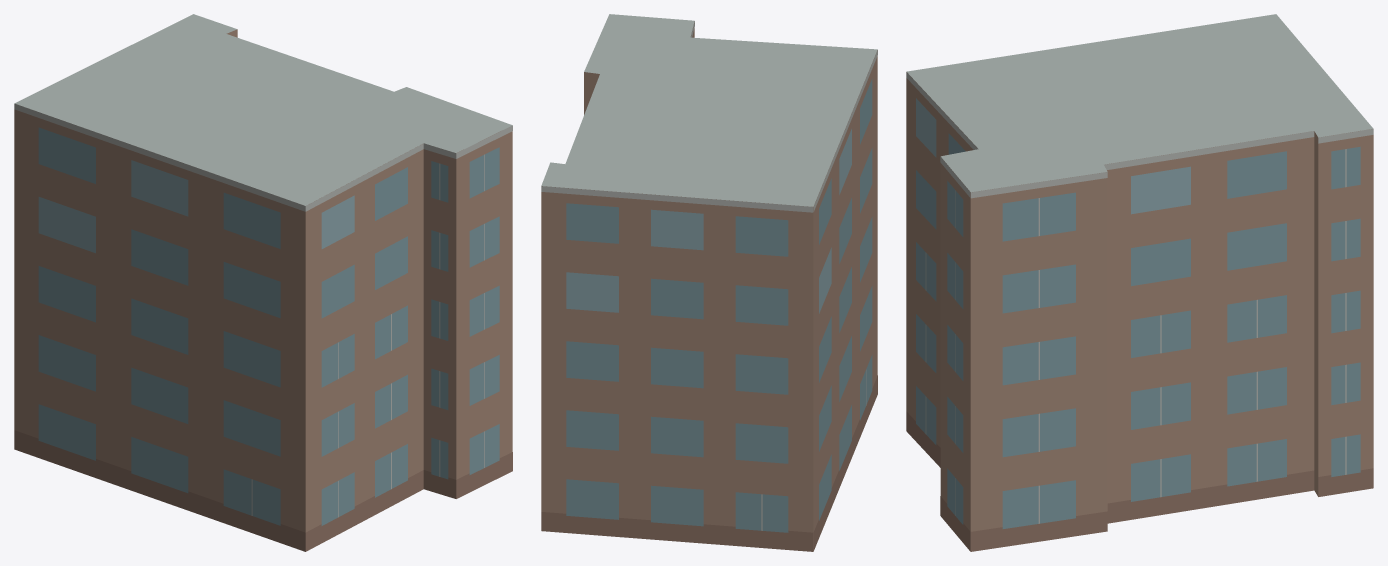
Rendered from survey-upis-32854429.glb.
3 views of the same model, side by side, from view 1: azimuth 30°, elevation 25°; view 2: azimuth 150°, elevation 25°; view 3: azimuth 270°, elevation 25° (orthographic). The views are drawn at different scales.
Visible parts, largest first — view 1: survey-upis-32854429.tmp; view 2: survey-upis-32854429.tmp; view 3: survey-upis-32854429.tmp.
Part boxes in pixels (x1=…): survey-upis-32854429.tmp: x1=14, y1=14, x2=512, y2=551; survey-upis-32854429.tmp: x1=541, y1=14, x2=877, y2=551; survey-upis-32854429.tmp: x1=906, y1=14, x2=1373, y2=551.
Size of the model in its own units: 15.32 by 14.4 by 16.97.
